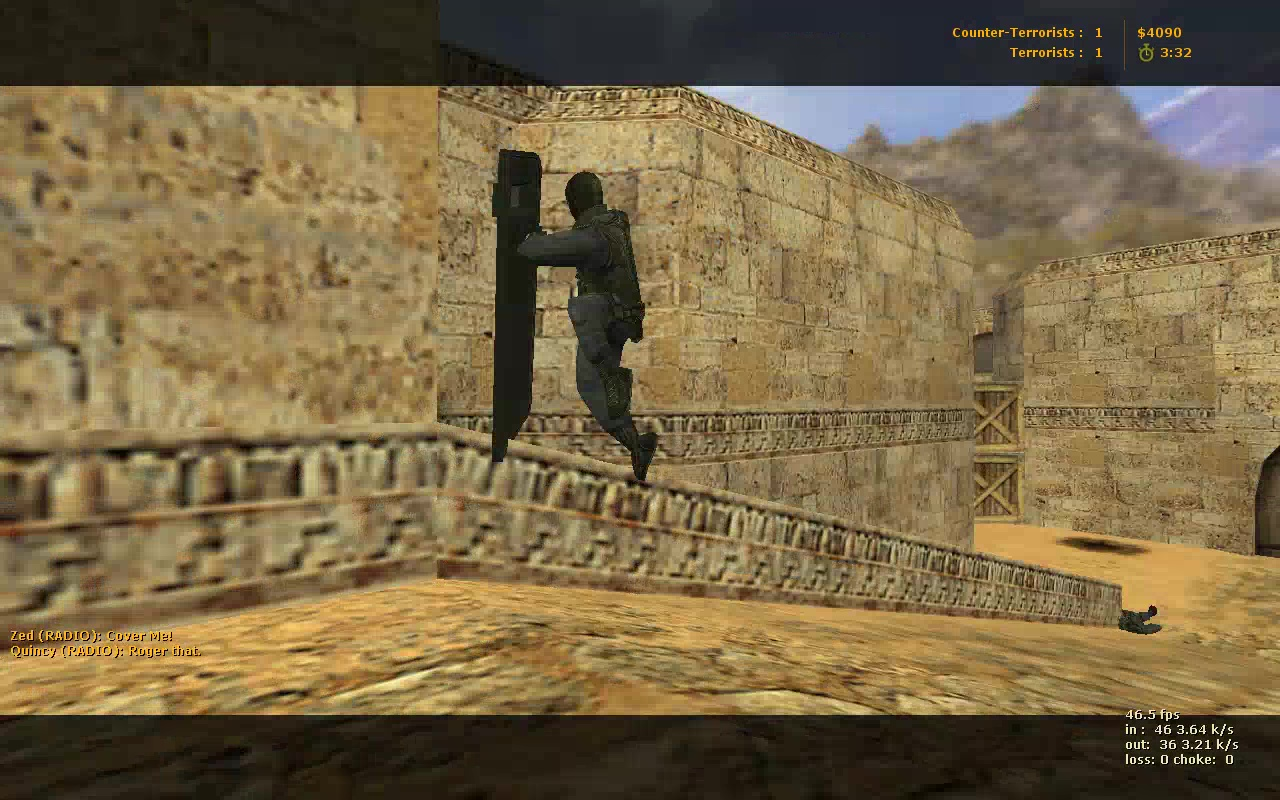ct: (493, 147, 656, 487)
